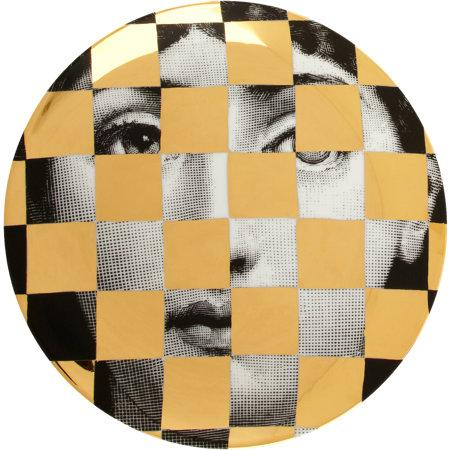person: (35, 29, 432, 440)
